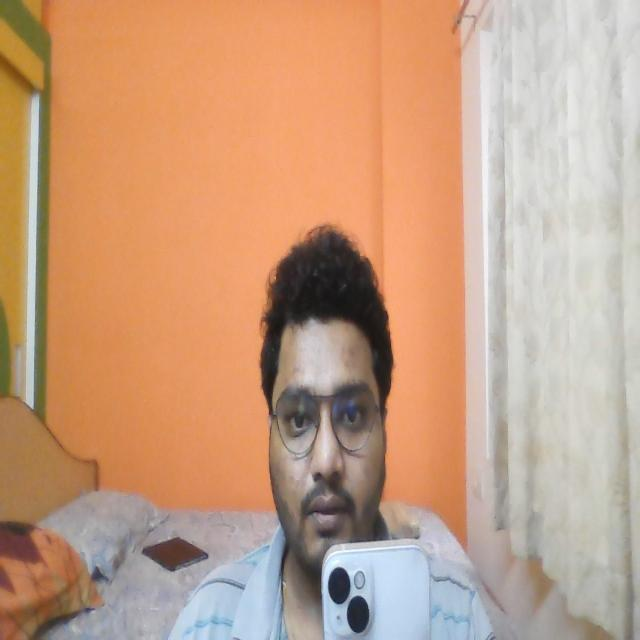phone: (319, 540, 437, 640)
